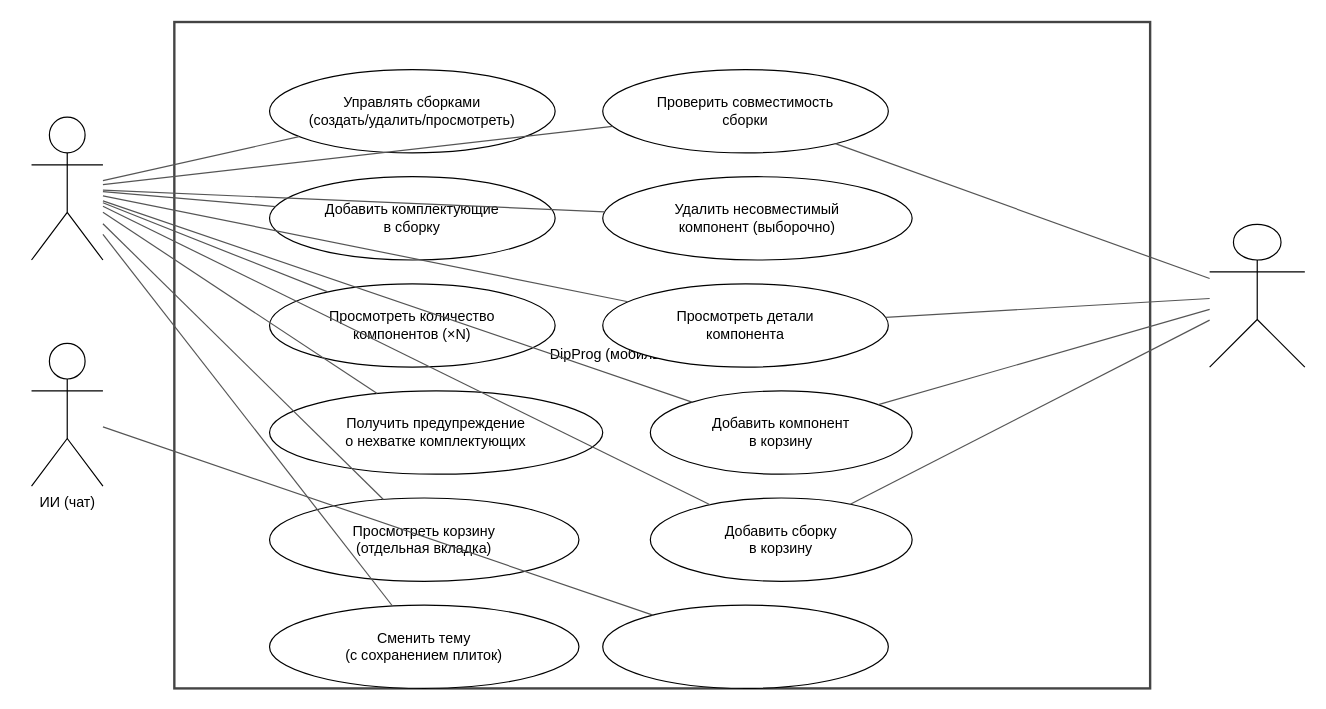
This 1326x709 diagram has some shape labels left out. Each missing label, with the centre of its shape:
Backend API: point 1256,295
Пользователь: point 66,188
Чат с ИИ и подбор сборок: point 745,646
